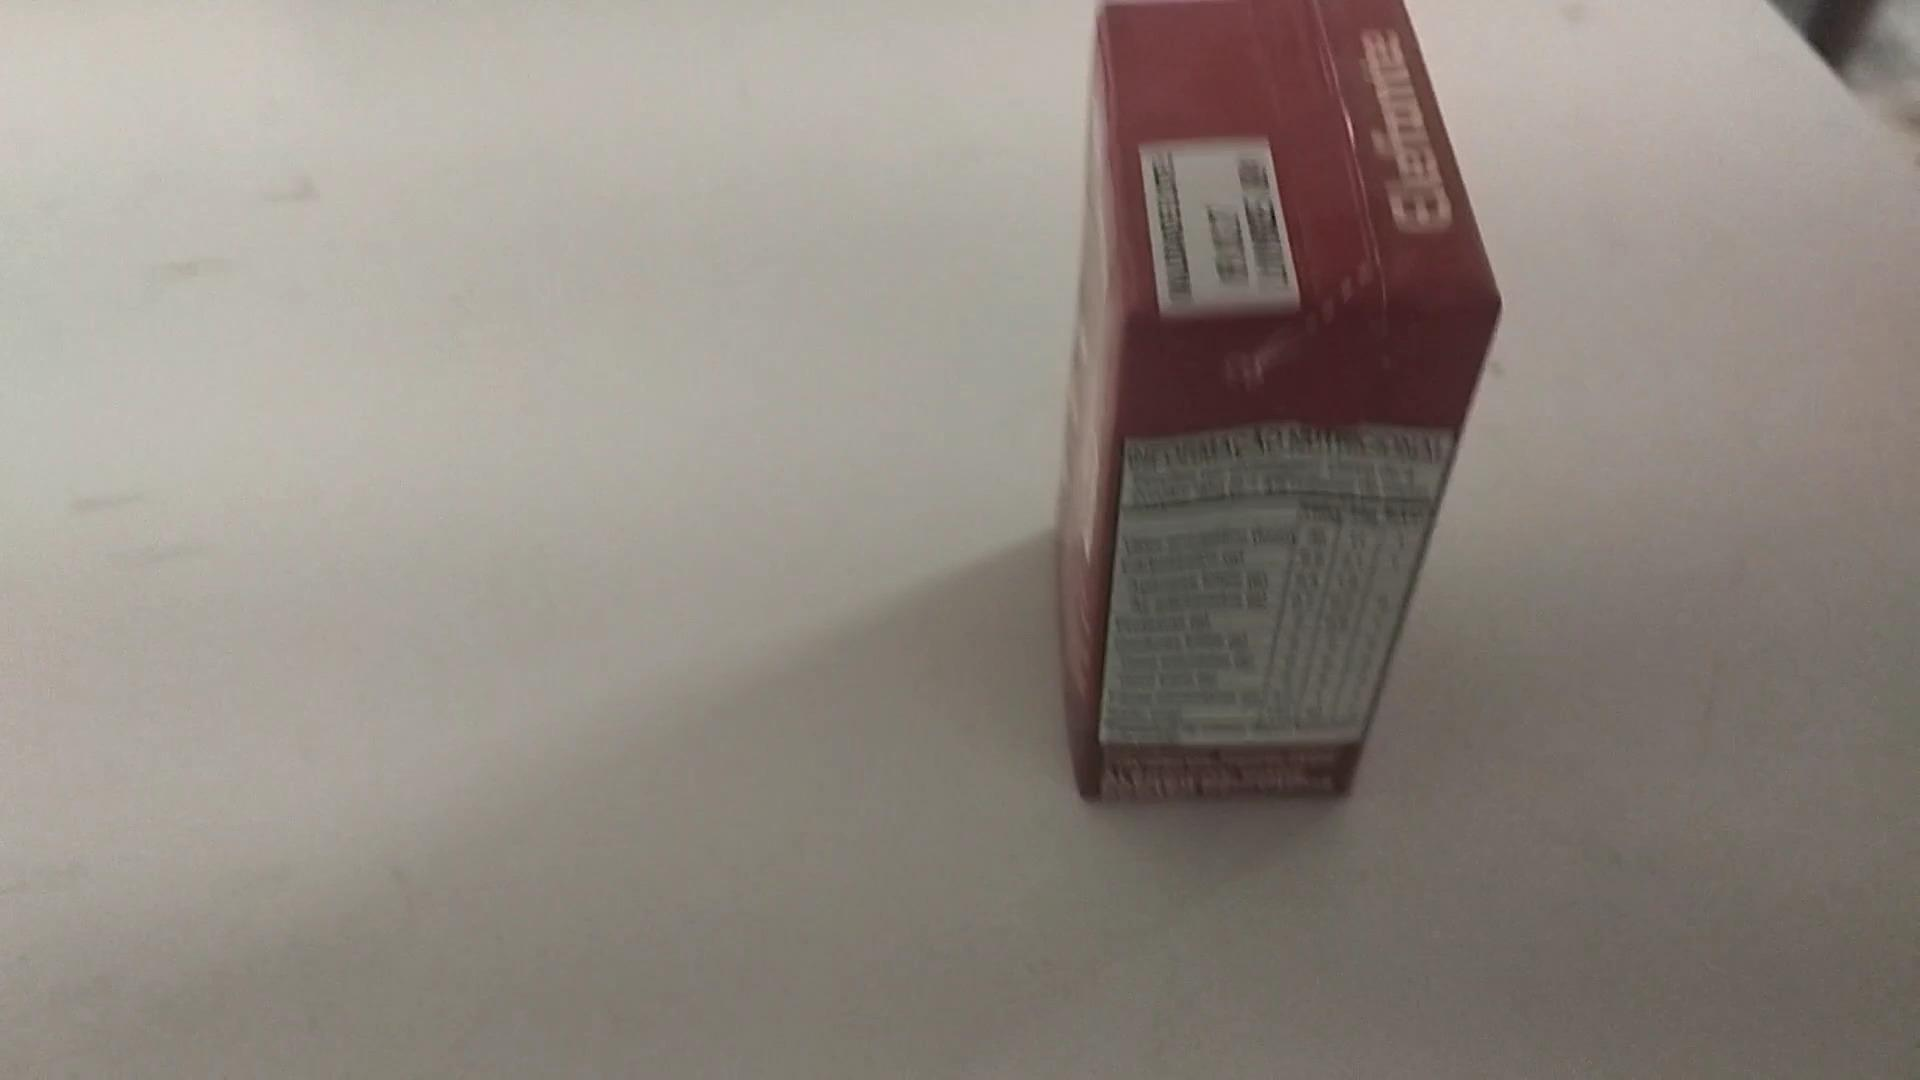tomate: (1015, 0, 1531, 825)
